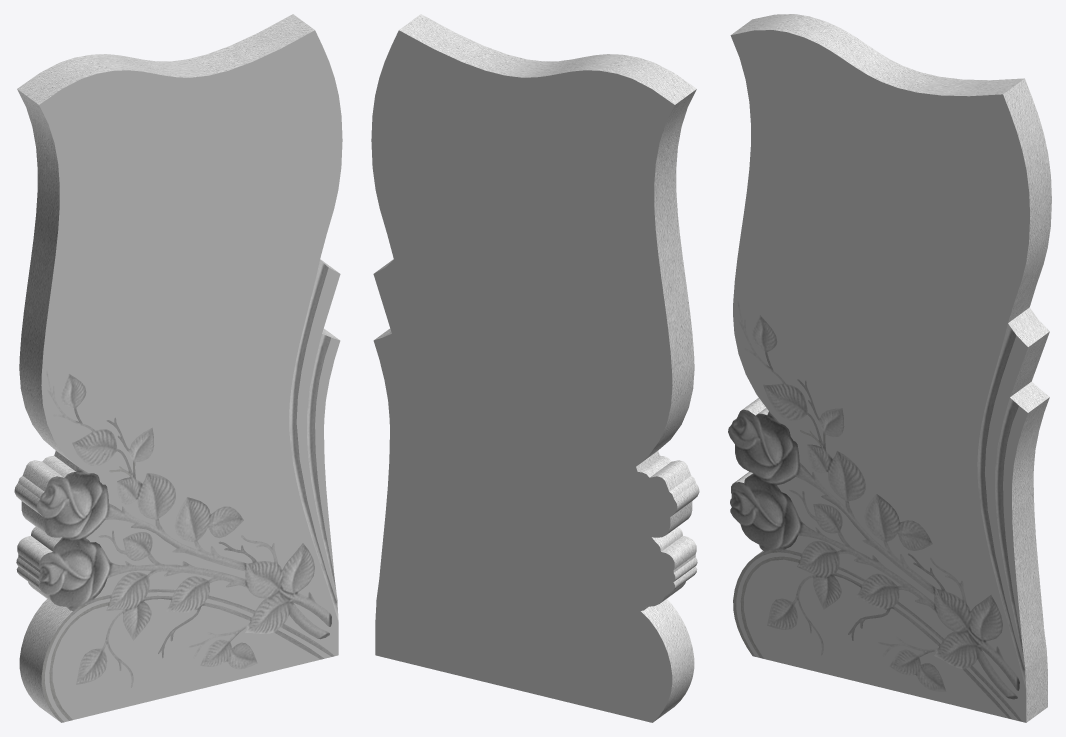
Rendered from cn0741353613_tkf.glb.
3 renders of one model, left to right at view 1: azimuth 30°, elevation 25°; view 2: azimuth 150°, elevation 25°; view 3: azimuth 330°, elevation 25°, orthographic.
Visible parts, largest first — view 1: Pam-d03-044, Pam-d03-044_2_notexture; view 2: Pam-d03-044, Pam-d03-044_2_notexture; view 3: Pam-d03-044, Pam-d03-044_2_notexture.
Boxes of the visible parts, x1,y1,x2,y2 form: Pam-d03-044: [39, 30, 342, 722]; Pam-d03-044_2_notexture: [14, 14, 339, 722]; Pam-d03-044: [371, 30, 677, 722]; Pam-d03-044_2_notexture: [374, 14, 699, 722]; Pam-d03-044: [730, 30, 1030, 722]; Pam-d03-044_2_notexture: [728, 14, 1051, 722].
Bounding box in the file's own units: 0.4 × 0.8 × 0.05.
1 material, 1 textured.
